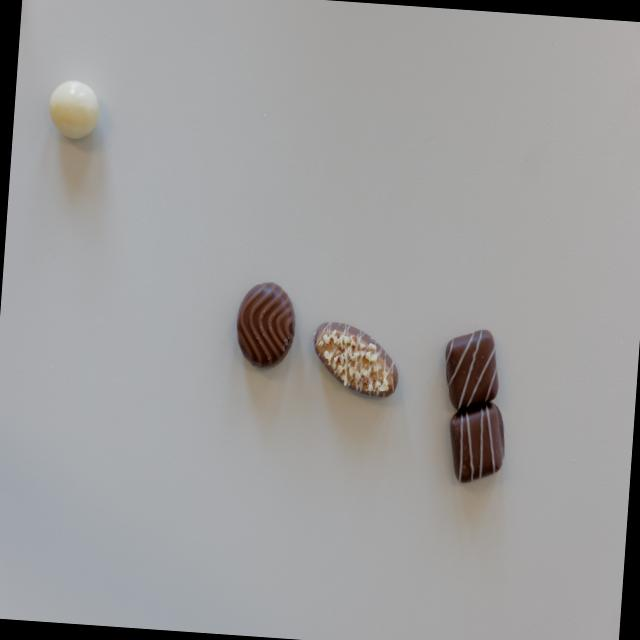Amandina: (310, 314, 401, 400)
Jelly_Milk: (44, 76, 101, 142)
Noir_authentique: (232, 279, 296, 370)
Stracciatella: (440, 327, 502, 412), (447, 400, 508, 484)
